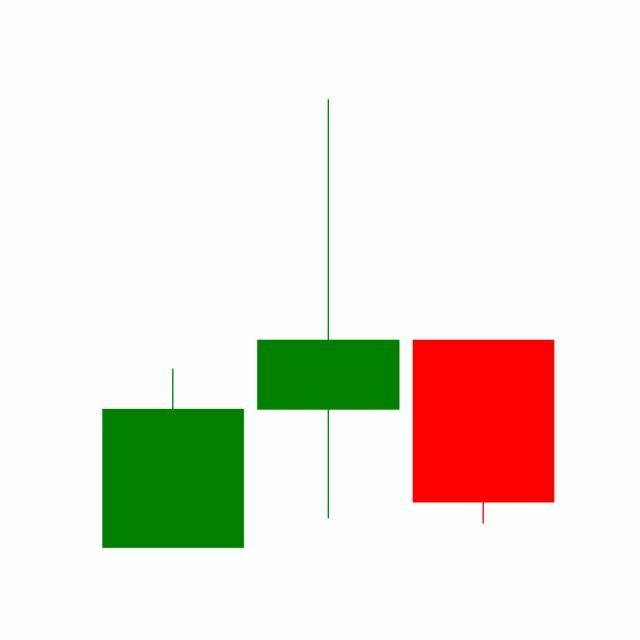Spinning Top: (250, 94, 407, 524)
